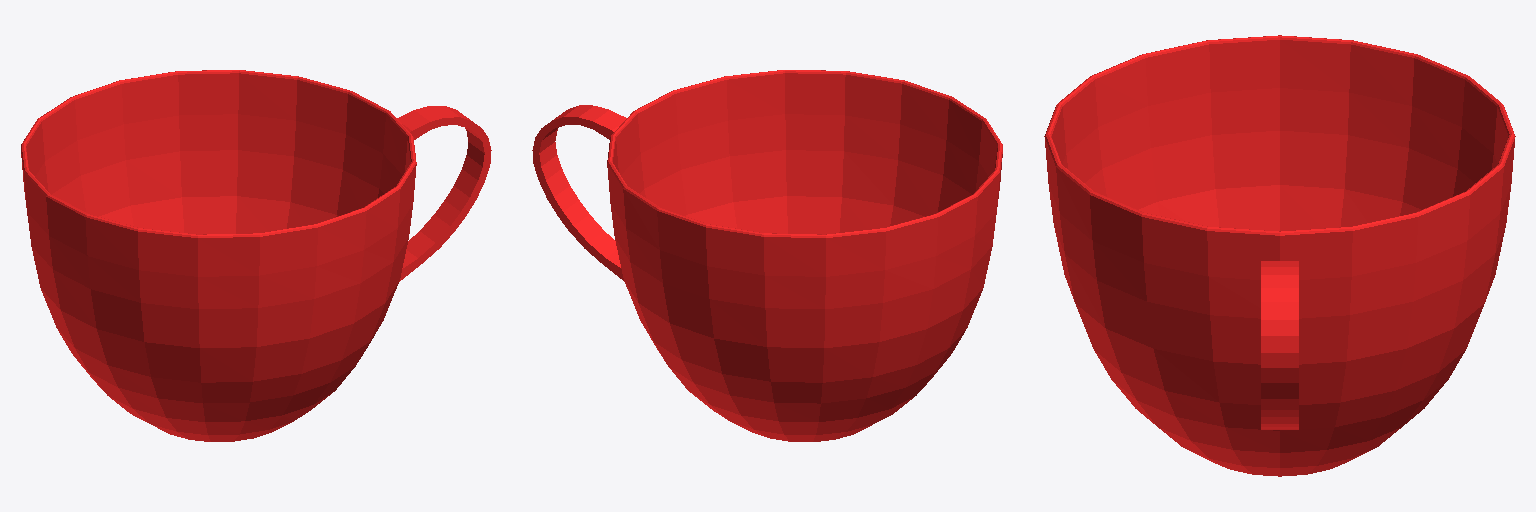
robot.urdf — mug:
<?xml version="0.0" ?>
<robot name="mug">
    <link concave="yes" name="base_link">
        <contact>
            <lateral_friction value="0.8"/>
            <!--rolling_friction value="0.3"/-->
            <!--spinning_friction value="0.3"/-->
        </contact>
        <inertial>
            <origin rpy="0 0 -1.570796326794896619231" xyz="0 0 0.04"/>
            <mass value="1"/>
            <inertia ixx="1" ixy="0" ixz="0" iyy="1" iyz="0" izz="1"/>
        </inertial>
        <visual>
            <origin rpy="0 0 0" xyz="0 0 0"/>
            <geometry>
                <mesh filename="mug.obj" scale="0.05 0.05 0.05 "/>
            </geometry>
      <material name="mug">
        <color rgba="1 0.2 0.2 1"/>
        <specular rgb="1 1 1"/>
      </material>
        </visual>
        <collision concave="yes">
            <origin rpy="0 0 0" xyz="0 0 0"/>
            <geometry>
                <mesh filename="mug.obj" scale="0.05 0.05 0.05 "/>
            </geometry>
        </collision>
    </link>
</robot>

--- Facts derived from the render (not from the file) ---
The picture shows the robot from 3 angles, left to right: view 1: azimuth 30°, elevation 25°; view 2: azimuth 150°, elevation 25°; view 3: azimuth 270°, elevation 25°; orthographic projection.
Model mug with 1 links and 0 joints (none), rooted at base_link, posed every joint at zero.
Links seen in each view (by area): view 1: base_link; view 2: base_link; view 3: base_link.
Link boxes in pixels (x1,y1,x2,y2): base_link: (21, 70, 491, 441); base_link: (532, 70, 1002, 441); base_link: (1044, 35, 1515, 476).
Size in the robot's own frame: 0.1583 by 0.1249 by 0.0899 metres.
1 mesh visuals loaded from 1 distinct referenced files (1 OBJ).